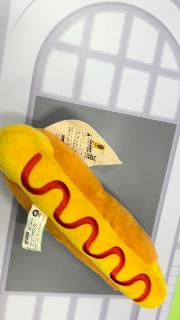hotdog: (1, 123, 167, 309)
